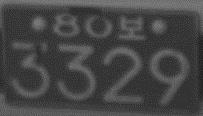0: (84, 13, 112, 38)
2: (102, 44, 145, 105)
3: (55, 41, 95, 102), (9, 40, 50, 99)
8: (53, 11, 80, 38)
9: (149, 47, 189, 105)
보: (118, 14, 145, 40)
